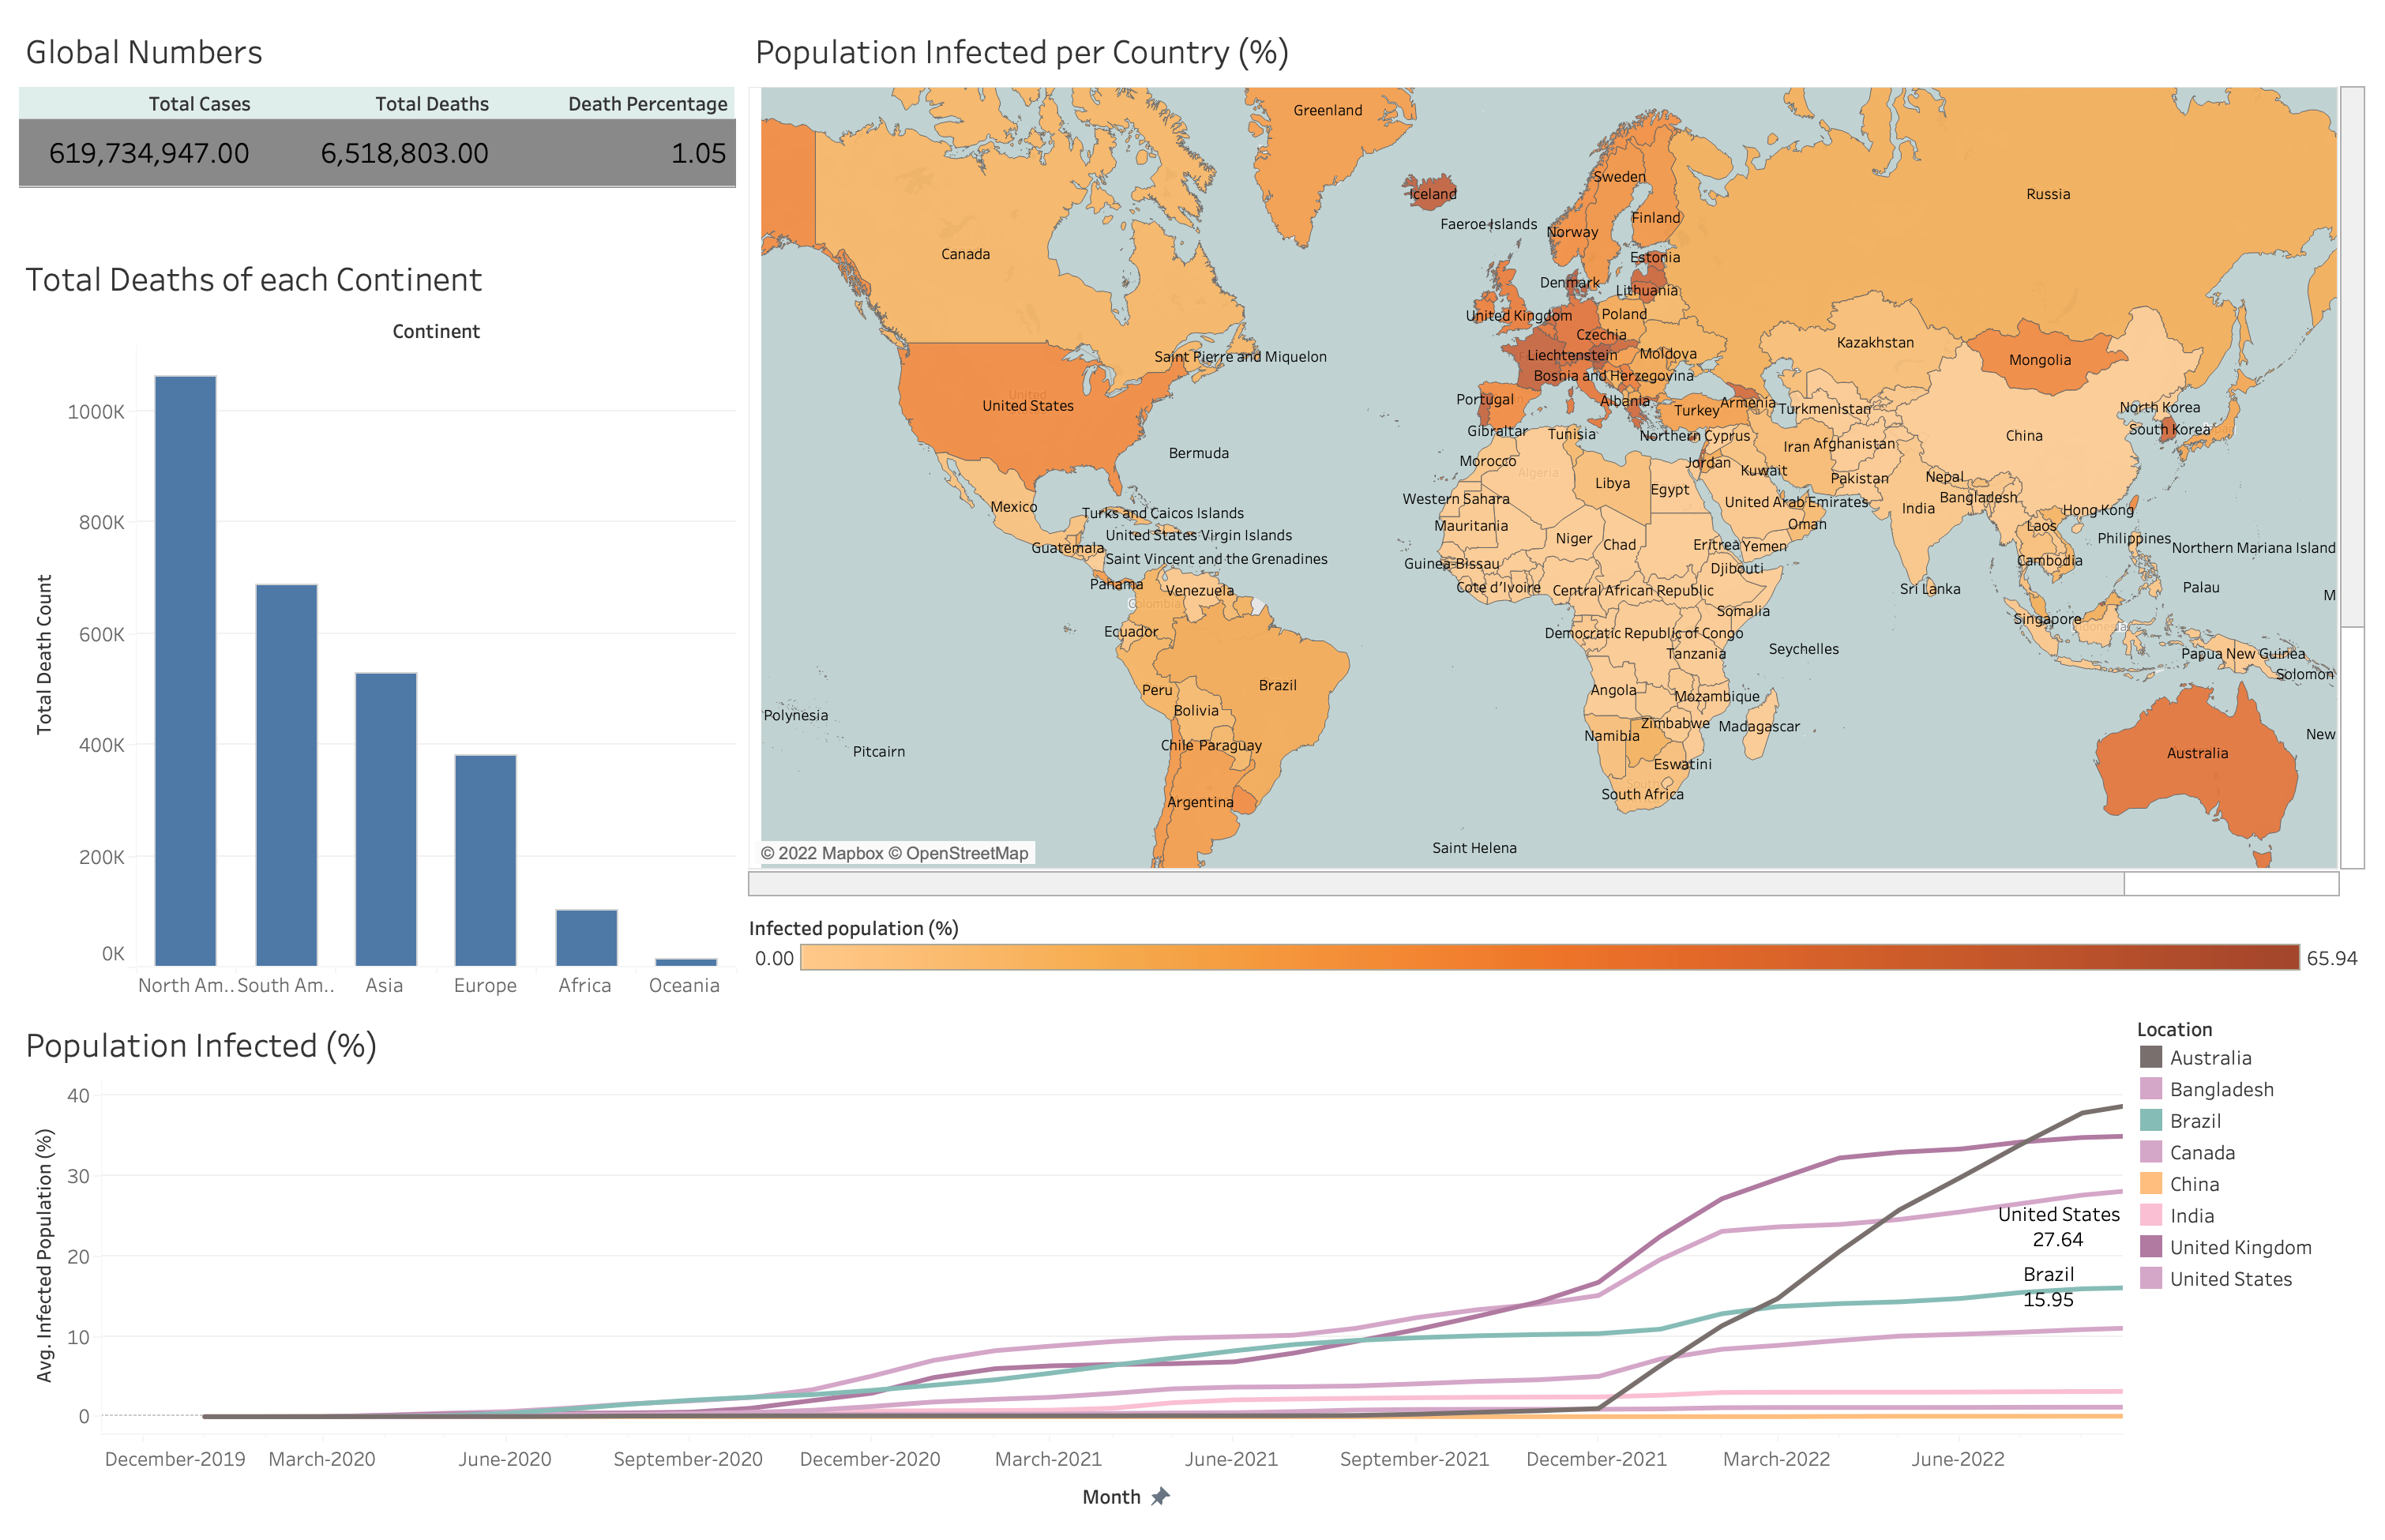

The dashboard page shown, as its layout file describes it:
{"tool":"tableau","page":{"name":"Dashboard 1","canvas":[1000,1000],"units":"permille","ordinal":0},"visuals":[{"type":"worksheet","title":"Sheet 1","mark":"Automatic","box":[5.3,8.2,306.2,147.6]},{"type":"worksheet","title":"Sheet 3","mark":"Automatic","box":[311.5,8.2,683.2,578.4]},{"type":"worksheet","title":"Sheet 2","mark":"Automatic","rows":["totaldeathcount"],"cols":["continent"],"box":[5.3,155.8,306.2,497.4]},{"type":"legend","title":"Sheet 3","param":"[federated.17zyznz0rl5al11bc3uhc14ssvh5].[sum:infectedpercentage:qk]","box":[311.5,586.6,683.2,66.7]},{"type":"worksheet","title":"Sheet 4","mark":"Automatic","rows":["infectedpercentage"],"cols":["date"],"box":[5.3,653.2,887.2,338.6]},{"type":"legend","title":"Sheet 4","param":"[federated.1eeftc21jt6pzz17lp4te12uu9gs].[none:location:nk]","box":[892.5,653.2,102.2,338.6]}]}

Visuals, with their boxes on the dashboard's canvas, which has no fixed pixel size, in thousandths of its width and height (x1, y1, x2, y2). These are canvas units, not pixel positions in the 2385x1540 screenshot, which may show the page scaled, cropped or inside an application window:
"Sheet 1" worksheet: box(5, 8, 312, 156)
"Sheet 3" worksheet: box(312, 8, 995, 587)
"Sheet 2" worksheet: box(5, 156, 312, 653)
"Sheet 3" legend: box(312, 587, 995, 653)
"Sheet 4" worksheet: box(5, 653, 892, 992)
"Sheet 4" legend: box(892, 653, 995, 992)
